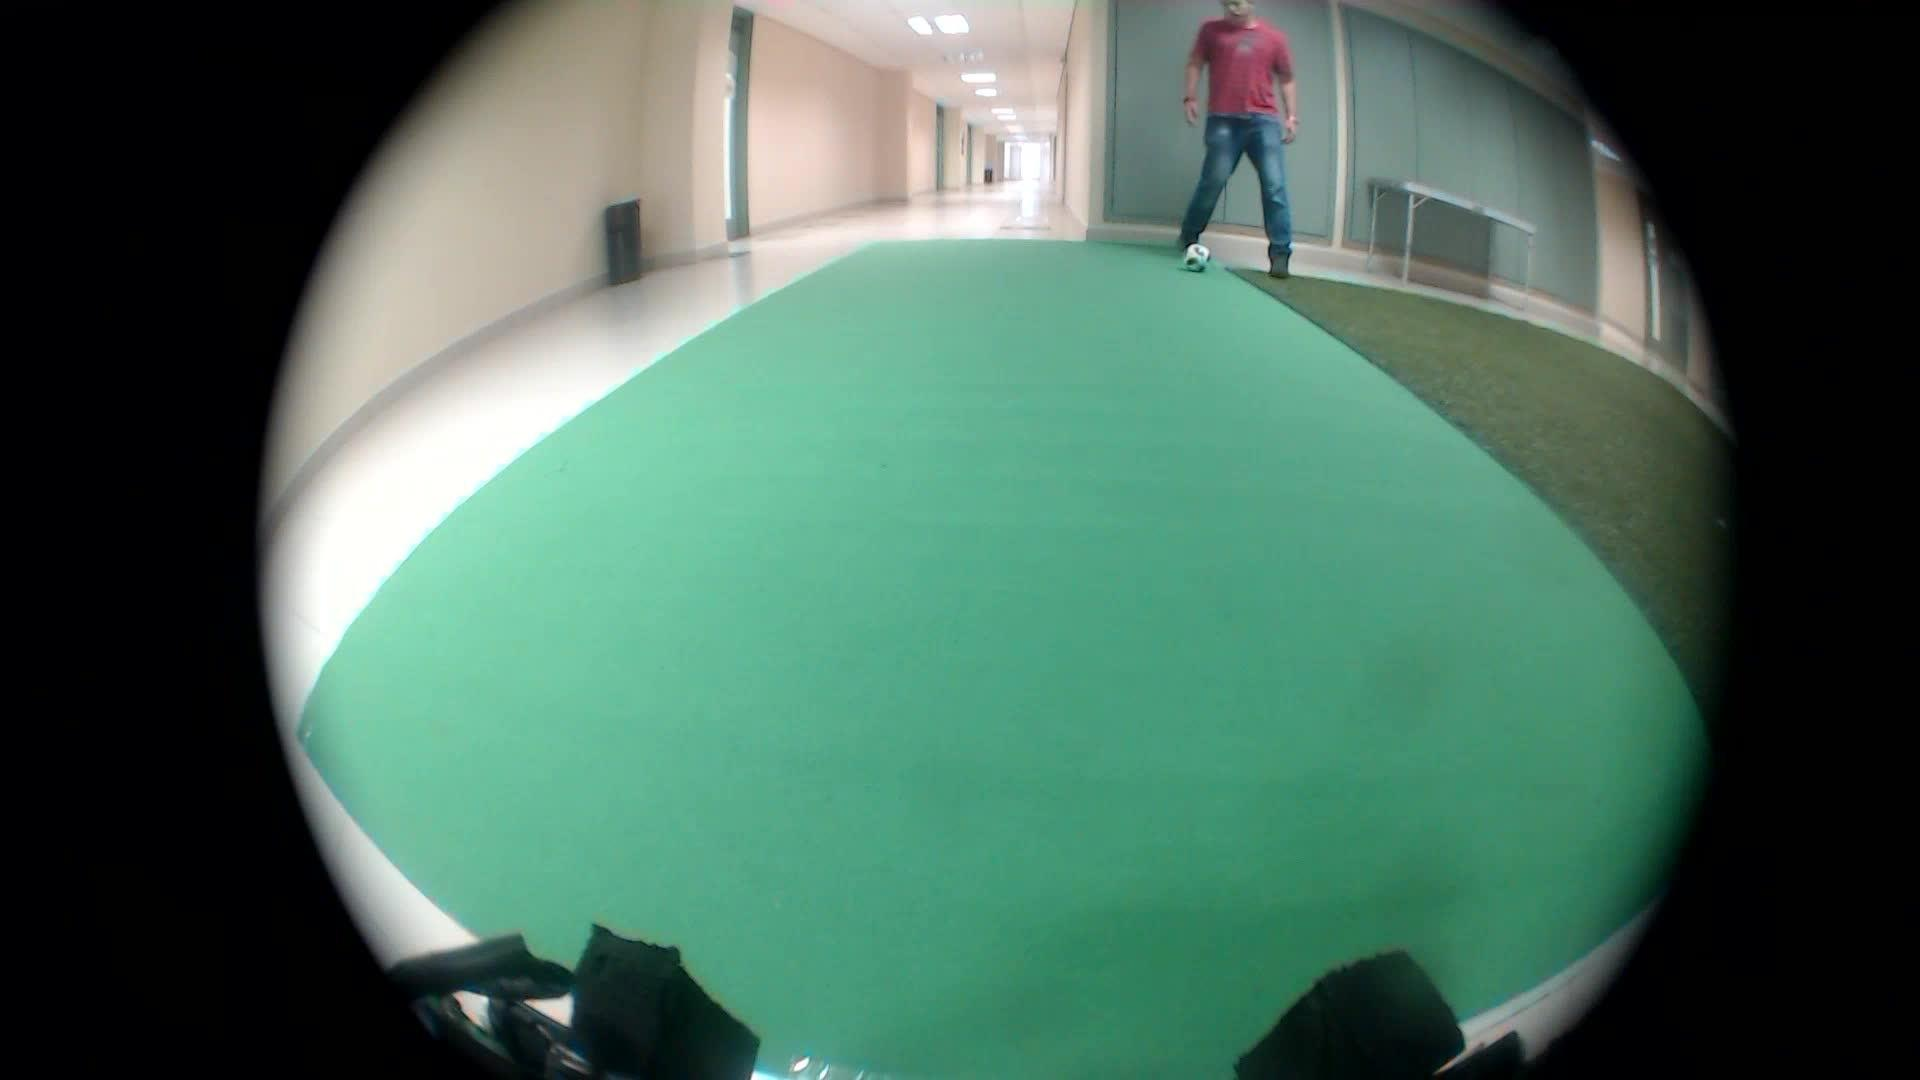ball: (1182, 243, 1217, 280)
